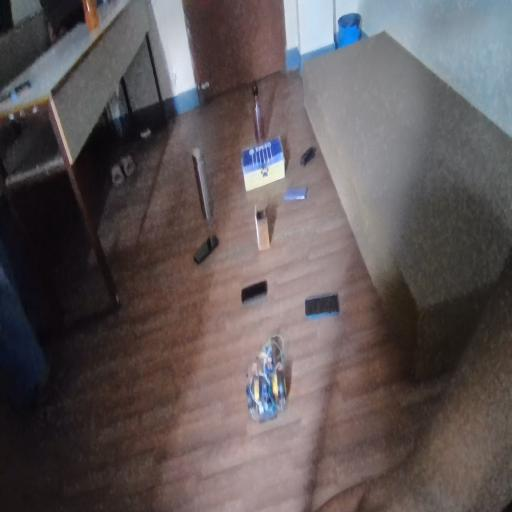Bottle: (247, 76, 270, 138)
car: (241, 343, 295, 412)
